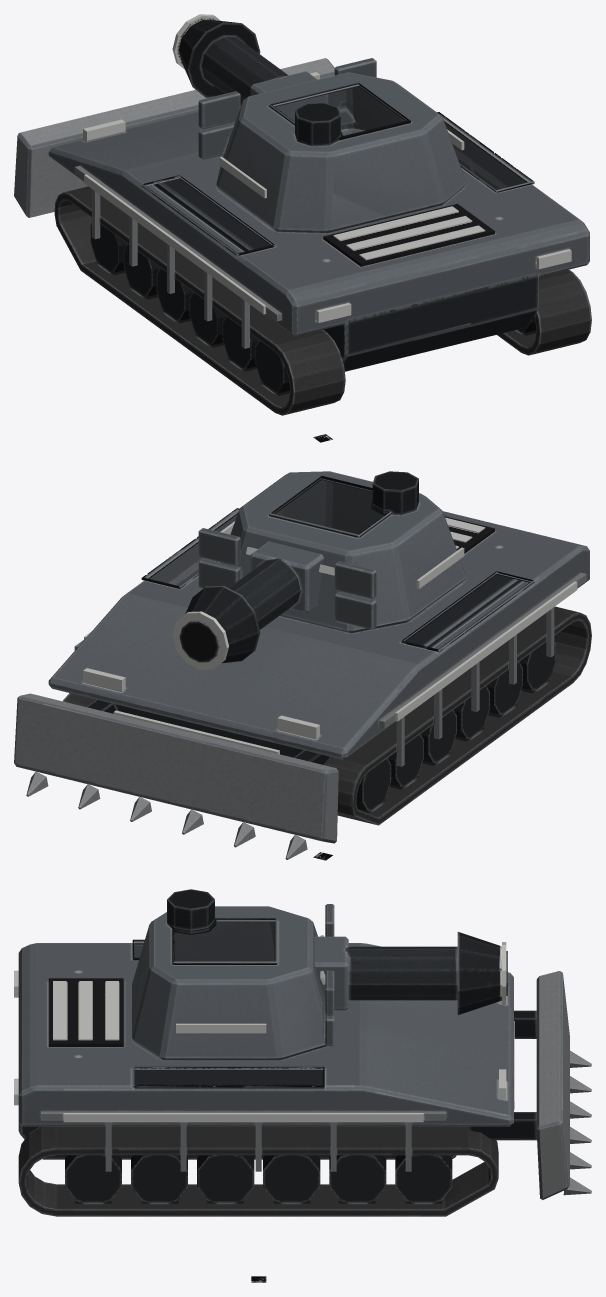
The model's file is chs_cleaver.fbx.
The picture shows the model from 3 angles, top to bottom: view 1: azimuth 30°, elevation 25°; view 2: azimuth 150°, elevation 25°; view 3: azimuth 270°, elevation 25°; orthographic projection.
Parts seen in each view (by area): view 1: base_bar, turret_bar, trackL_bar, barrel_bar, base_glow_running_bar, trackR_bar, turret_glow_running_bar, base_glow_head_bar; view 2: base_bar, turret_bar, trackL_bar, barrel_bar, base_glow_running_bar, base_glow_head_bar, barrel_glow_weapon_bar, turret_glow_running_bar; view 3: base_bar, trackR_bar, turret_bar, barrel_bar, base_glow_running_bar, turret_glow_running_bar.
Boxes of the visible parts, box(x1,y1,x2,y2) form: base_bar: box(14, 58, 589, 371); turret_bar: box(198, 58, 466, 232); trackL_bar: box(54, 186, 345, 415); barrel_bar: box(178, 19, 328, 121); base_glow_running_bar: box(84, 174, 571, 322); trackR_bar: box(497, 269, 591, 355); turret_glow_running_bar: box(219, 129, 464, 198); base_glow_head_bar: box(83, 72, 319, 141); base_bar: box(14, 508, 589, 859); turret_bar: box(198, 471, 465, 633); trackL_bar: box(323, 606, 591, 825); barrel_bar: box(179, 541, 323, 663); base_glow_running_bar: box(84, 517, 577, 754); base_glow_head_bar: box(83, 668, 319, 739); barrel_glow_weapon_bar: box(172, 611, 228, 669); turret_glow_running_bar: box(220, 521, 464, 588); base_bar: box(18, 939, 591, 1199); trackR_bar: box(18, 1126, 498, 1216); turret_bar: box(132, 889, 334, 1060); barrel_bar: box(314, 932, 507, 1014); base_glow_running_bar: box(14, 970, 514, 1122); turret_glow_running_bar: box(176, 935, 325, 1033).
Size of the model in its own units: 484 by 531 by 770.
Materials: 2 (2 with a texture image).
